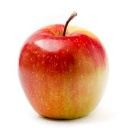apple: (19, 13, 110, 121)
